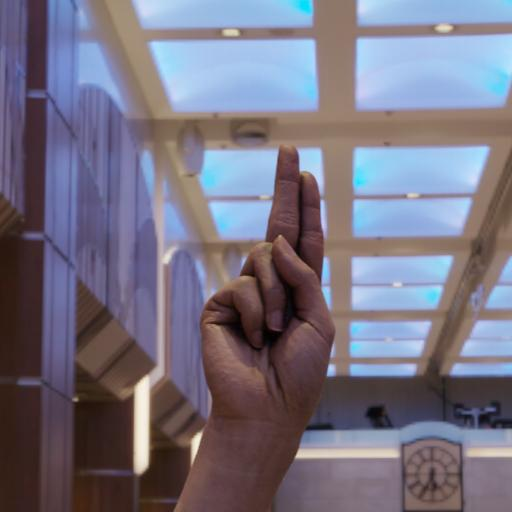U: (159, 141, 382, 512)
